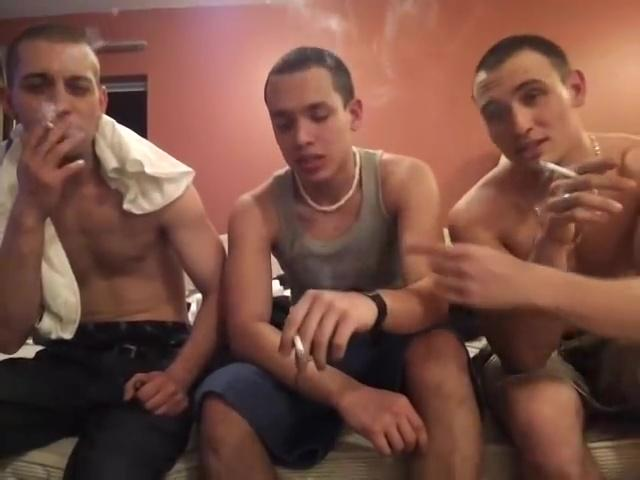cigarette: (536, 158, 583, 177), (292, 329, 309, 359), (41, 118, 57, 130)
